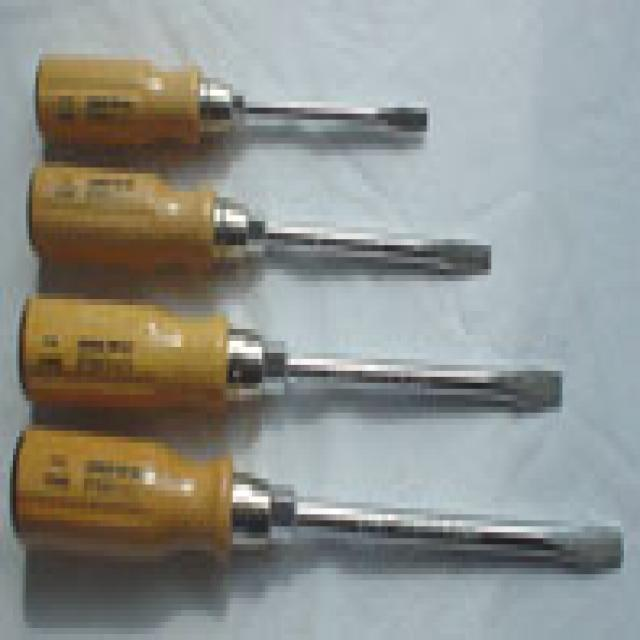screwdriver: (6, 416, 630, 596), (8, 276, 576, 458), (11, 152, 500, 298), (14, 39, 438, 178)
